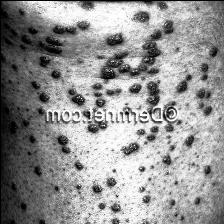Unclassified: (104, 31, 122, 50), (100, 68, 116, 80), (57, 133, 68, 149)
